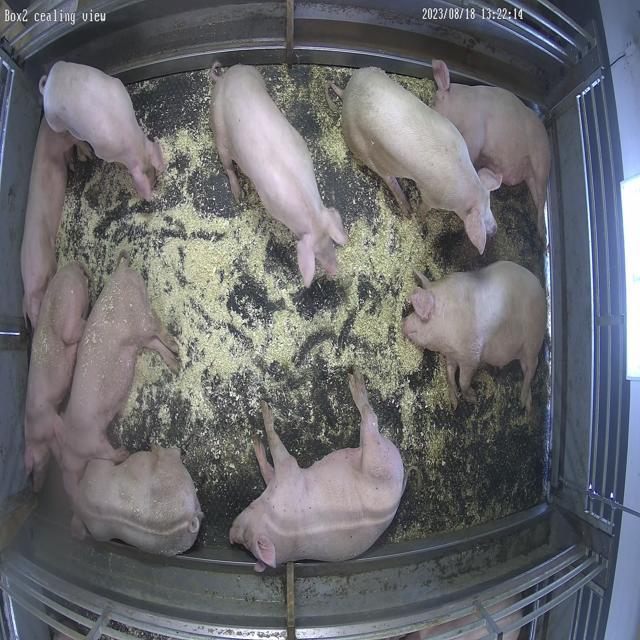Dirt: (385, 353, 548, 542), (454, 184, 545, 278)
Pig: (229, 371, 405, 572), (213, 64, 347, 286), (343, 67, 501, 254), (63, 257, 178, 496), (404, 261, 548, 412), (434, 59, 552, 234), (40, 62, 164, 200), (24, 263, 88, 492), (77, 448, 203, 556), (20, 118, 77, 328)
